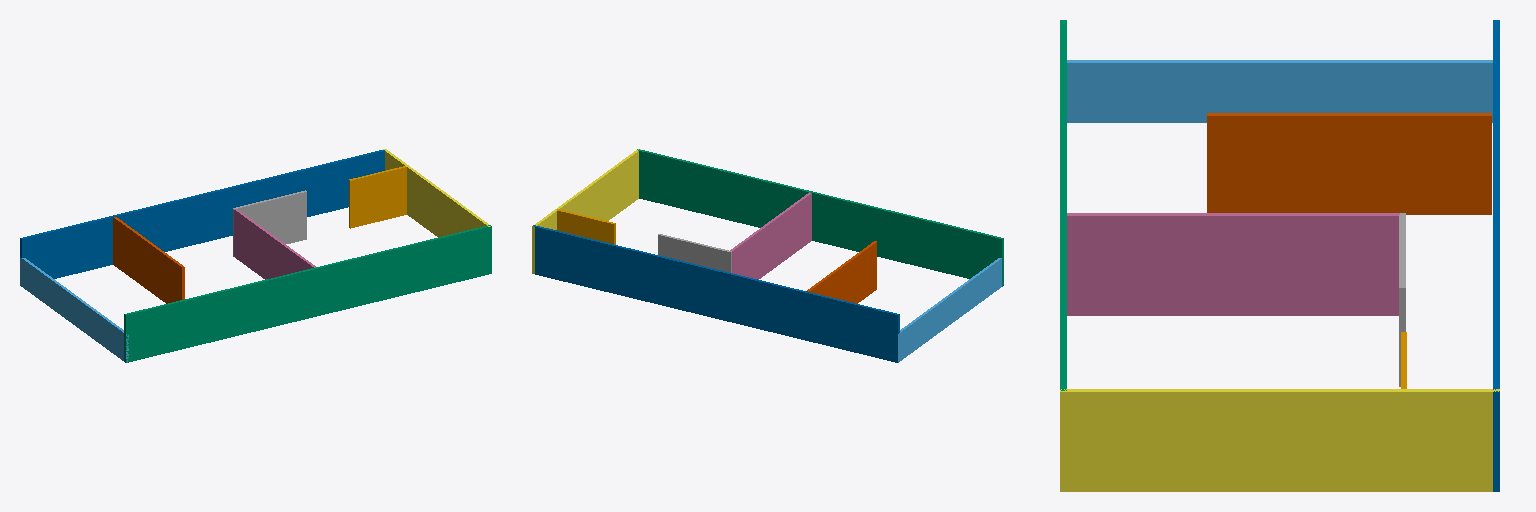
robot.urdf — testfield:
<?xml version="1.0" ?>
<robot name="testfield">
  <link name="world"/>
  <joint name="fixed" type="fixed">
    <parent link="world"/>
    <child link="testfield__Wall_12"/>
  </joint>
<joint name="wall_12_to_14" type="fixed">
  <parent link="testfield__Wall_12"/>
  <child link="testfield__Wall_14"/>
</joint>
<joint name="wall_14_to_15" type="fixed">
  <parent link="testfield__Wall_14"/>
  <child link="testfield__Wall_15"/>
</joint>
<joint name="wall_15_to_16" type="fixed">
  <parent link="testfield__Wall_15"/>
  <child link="testfield__Wall_16"/>
</joint>
<joint name="wall_16_to_19" type="fixed">
  <parent link="testfield__Wall_16"/>
  <child link="testfield__Wall_19"/>
</joint>
<joint name="wall_19_to_21" type="fixed">
  <parent link="testfield__Wall_19"/>
  <child link="testfield__Wall_21"/>
</joint>
<joint name="wall_21_to_22" type="fixed">
  <parent link="testfield__Wall_21"/>
  <child link="testfield__Wall_22"/>
</joint>
<joint name="wall_22_to_24" type="fixed">
  <parent link="testfield__Wall_22"/>
  <child link="testfield__Wall_24"/>
</joint>

  <link name="testfield__Wall_12">
    <inertial>
      <mass value="0"/>
      <origin rpy="0  0  0" xyz="0  0  0"/>
      <inertia ixx="0" ixy="0" ixz="0" iyy="0" iyz="0" izz="0"/>
    </inertial>
    <collision name="testfield__Wall_12_Collision">
      <origin rpy="0      0      1.5708" xyz="-2.71596 -2.93654  0.75"/>
      <geometry>
        <box size="10 0.15 1.5"/>
      </geometry>
    </collision>
    <visual name="testfield__Wall_12_Visual">
      <origin rpy="0      0      1.5708" xyz="-2.71596 -2.93654  0.75"/>
      <geometry>
        <box size="10 0.15 1.5"/>
      </geometry>
    </visual>
  </link>
  <link name="testfield__Wall_14">
    <inertial>
      <mass value="0"/>
      <origin rpy="0  0  0" xyz="0  0  0"/>
      <inertia ixx="0" ixy="0" ixz="0" iyy="0" iyz="0" izz="0"/>
    </inertial>
    <collision name="testfield__Wall_14_Collision">
      <origin rpy="0  0  0" xyz="7.20904 -7.86154  1.25"/>
      <geometry>
        <box size="20 0.15 2.5"/>
      </geometry>
    </collision>
    <visual name="testfield__Wall_14_Visual">
      <origin rpy="0  0  0" xyz="7.20904 -7.86154  1.25"/>
      <geometry>
        <box size="20 0.15 2.5"/>
      </geometry>
    </visual>
  </link>
  <link name="testfield__Wall_15">
    <inertial>
      <mass value="0"/>
      <origin rpy="0  0  0" xyz="0  0  0"/>
      <inertia ixx="0" ixy="0" ixz="0" iyy="0" iyz="0" izz="0"/>
    </inertial>
    <collision name="testfield__Wall_15_Collision">
      <origin rpy="0      0      1.5708" xyz="17.13403  -2.93654   1.25"/>
      <geometry>
        <box size="10 0.15 2.5"/>
      </geometry>
    </collision>
    <visual name="testfield__Wall_15_Visual">
      <origin rpy="0      0      1.5708" xyz="17.13403  -2.93654   1.25"/>
      <geometry>
        <box size="10 0.15 2.5"/>
      </geometry>
    </visual>
  </link>
  <link name="testfield__Wall_16">
    <inertial>
      <mass value="0"/>
      <origin rpy="0  0  0" xyz="0  0  0"/>
      <inertia ixx="0" ixy="0" ixz="0" iyy="0" iyz="0" izz="0"/>
    </inertial>
    <collision name="testfield__Wall_16_Collision">
      <origin rpy="0       0       3.14159" xyz="7.20904  1.98846  1.25"/>
      <geometry>
        <box size="20 0.15 2.5"/>
      </geometry>
    </collision>
    <visual name="testfield__Wall_16_Visual">
      <origin rpy="0       0       3.14159" xyz="7.20904  1.98846  1.25"/>
      <geometry>
        <box size="20 0.15 2.5"/>
      </geometry>
    </visual>
  </link>
  <link name="testfield__Wall_19">
    <inertial>
      <mass value="0"/>
      <origin rpy="0  0  0" xyz="0  0  0"/>
      <inertia ixx="0" ixy="0" ixz="0" iyy="0" iyz="0" izz="0"/>
    </inertial>
    <collision name="testfield__Wall_19_Collision">
      <origin rpy="0      0     -1.5708" xyz="2.2649  -1.35455  1.25"/>
      <geometry>
        <box size="6.5 0.15 2.5"/>
      </geometry>
    </collision>
    <visual name="testfield__Wall_19_Visual">
      <origin rpy="0      0     -1.5708" xyz="2.2649  -1.35455  1.25"/>
      <geometry>
        <box size="6.5 0.15 2.5"/>
      </geometry>
    </visual>
  </link>
  <link name="testfield__Wall_21">
    <inertial>
      <mass value="0"/>
      <origin rpy="0  0  0" xyz="0  0  0"/>
      <inertia ixx="0" ixy="0" ixz="0" iyy="0" iyz="0" izz="0"/>
    </inertial>
    <collision name="testfield__Wall_21_Collision">
      <origin rpy="0      0      1.5708" xyz="7.6669  -3.99668  1.25"/>
      <geometry>
        <box size="7.56534 0.15 2.5"/>
      </geometry>
    </collision>
    <visual name="testfield__Wall_21_Visual">
      <origin rpy="0      0      1.5708" xyz="7.6669  -3.99668  1.25"/>
      <geometry>
        <box size="7.56534 0.15 2.5"/>
      </geometry>
    </visual>
  </link>
  <link name="testfield__Wall_22">
    <inertial>
      <mass value="0"/>
      <origin rpy="0  0  0" xyz="0  0  0"/>
      <inertia ixx="0" ixy="0" ixz="0" iyy="0" iyz="0" izz="0"/>
    </inertial>
    <collision name="testfield__Wall_22_Collision">
      <origin rpy="0  0  0" xyz="9.59207 -0.14401  1.25"/>
      <geometry>
        <box size="4 0.15 2.5"/>
      </geometry>
    </collision>
    <visual name="testfield__Wall_22_Visual">
      <origin rpy="0  0  0" xyz="9.59207 -0.14401  1.25"/>
      <geometry>
        <box size="4 0.15 2.5"/>
      </geometry>
    </visual>
  </link>
  <link name="testfield__Wall_24">
    <inertial>
      <mass value="0"/>
      <origin rpy="0  0  0" xyz="0  0  0"/>
      <inertia ixx="0" ixy="0" ixz="0" iyy="0" iyz="0" izz="0"/>
    </inertial>
    <collision name="testfield__Wall_24_Collision">
      <origin rpy="0  0  0" xyz="15.55281  -0.11725   1.25"/>
      <geometry>
        <box size="3.18076 0.15 2.5"/>
      </geometry>
    </collision>
    <visual name="testfield__Wall_24_Visual">
      <origin rpy="0  0  0" xyz="15.55281  -0.11725   1.25"/>
      <geometry>
        <box size="3.18076 0.15 2.5"/>
      </geometry>
    </visual>
  </link>
</robot>

--- What the picture shows (computed from the rendered views, not written in the file) ---
The picture shows the robot from 3 angles, left to right: view 1: azimuth 30°, elevation 25°; view 2: azimuth 150°, elevation 25°; view 3: azimuth 270°, elevation 25°; orthographic projection.
Model testfield with 9 links and 8 joints (8 fixed), rooted at world, posed every joint at zero.
Visible links, largest first — view 1: testfield__Wall_14, testfield__Wall_16, testfield__Wall_19, testfield__Wall_12, testfield__Wall_15, testfield__Wall_21, testfield__Wall_24, testfield__Wall_22; view 2: testfield__Wall_16, testfield__Wall_14, testfield__Wall_21, testfield__Wall_15, testfield__Wall_12, testfield__Wall_19, testfield__Wall_22, testfield__Wall_24; view 3: testfield__Wall_15, testfield__Wall_21, testfield__Wall_19, testfield__Wall_12, testfield__Wall_16, testfield__Wall_14, testfield__Wall_22.
Link boxes in pixels (box(x1,y1,x2,y2)): testfield__Wall_14: box(124, 225, 491, 362); testfield__Wall_16: box(20, 150, 384, 278); testfield__Wall_19: box(113, 217, 184, 303); testfield__Wall_12: box(20, 257, 128, 362); testfield__Wall_15: box(383, 149, 490, 237); testfield__Wall_21: box(234, 209, 315, 279); testfield__Wall_24: box(349, 166, 406, 228); testfield__Wall_22: box(233, 190, 306, 256); testfield__Wall_16: box(533, 225, 899, 362); testfield__Wall_14: box(637, 149, 1003, 286); testfield__Wall_21: box(730, 192, 811, 279); testfield__Wall_15: box(532, 149, 640, 273); testfield__Wall_12: box(898, 258, 1001, 362); testfield__Wall_19: box(807, 241, 876, 303); testfield__Wall_22: box(658, 234, 731, 272); testfield__Wall_24: box(557, 209, 615, 244); testfield__Wall_15: box(1060, 389, 1499, 491); testfield__Wall_21: box(1067, 213, 1399, 315); testfield__Wall_19: box(1207, 113, 1491, 214); testfield__Wall_12: box(1067, 60, 1492, 122); testfield__Wall_16: box(1493, 20, 1499, 491); testfield__Wall_14: box(1060, 20, 1066, 390); testfield__Wall_22: box(1399, 213, 1405, 386).
Size in the robot's own frame: 20 by 10 by 2.5 metres.
Geometry: primitives only (box / cylinder / sphere), no mesh files.